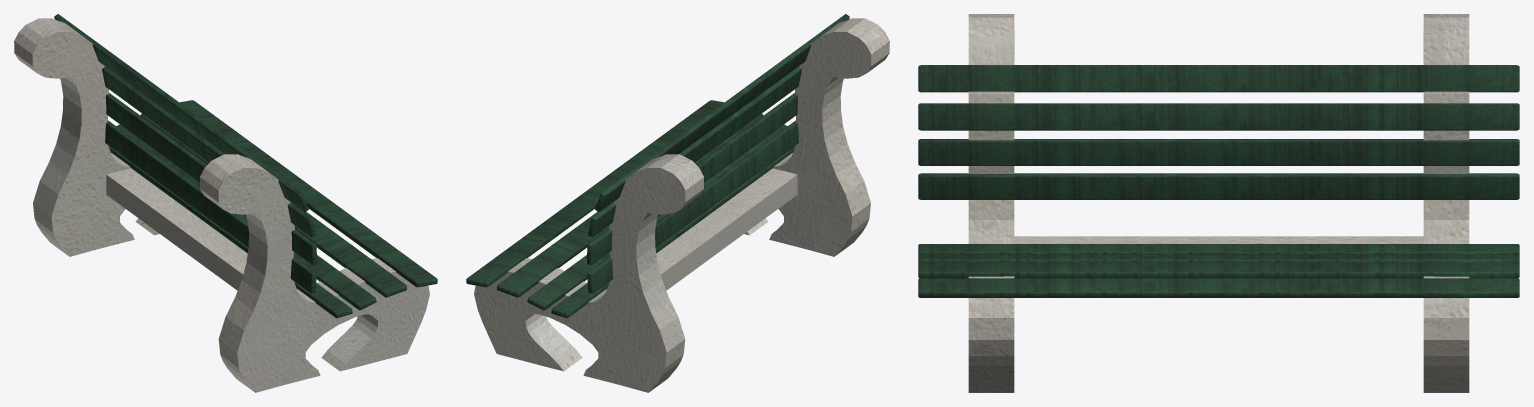
File: Bench.obj
The picture shows the model from 3 angles, left to right: view 1: azimuth 30°, elevation 25°; view 2: azimuth 150°, elevation 25°; view 3: azimuth 270°, elevation 25°; orthographic projection. The views are drawn at different scales.
Parts seen in each view (by area): view 1: RetopoFlow, Cube.001, Cube.002, Cube; view 2: RetopoFlow, Cube.001, Cube.002, Cube; view 3: Cube.001, Cube.002, RetopoFlow, Cube.
Boxes of the visible parts, x1,y1,x2,y2 form: RetopoFlow: [14, 18, 429, 392]; Cube.001: [54, 14, 316, 293]; Cube.002: [108, 100, 437, 318]; Cube: [106, 168, 247, 290]; RetopoFlow: [474, 18, 889, 392]; Cube.001: [587, 14, 849, 293]; Cube.002: [466, 100, 795, 318]; Cube: [656, 168, 797, 290]; Cube.001: [918, 65, 1519, 199]; Cube.002: [918, 244, 1519, 297]; RetopoFlow: [968, 14, 1469, 392]; Cube: [1014, 236, 1423, 243].
Bounding box in the file's own units: 13.15 × 13.55 × 26.41.
